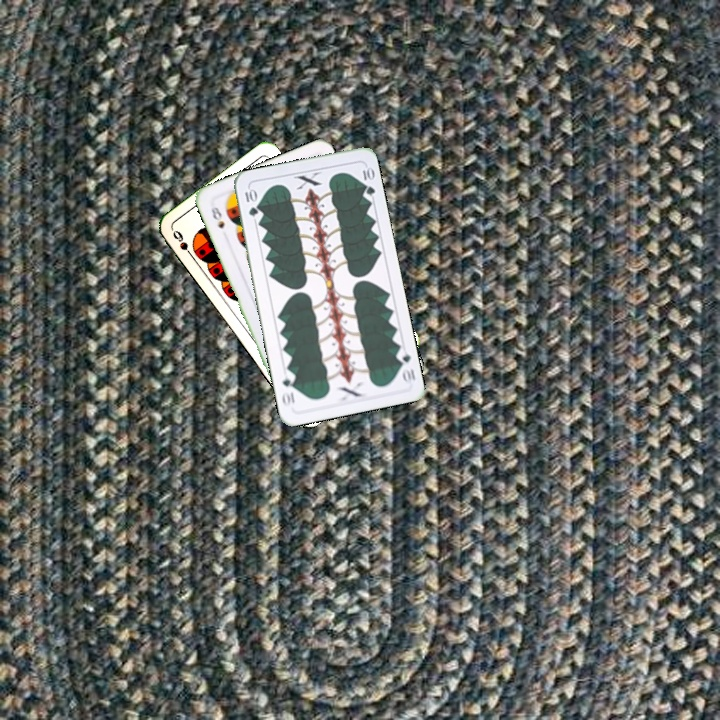G10: (393, 345, 418, 386), (241, 185, 260, 219)
S8: (206, 199, 227, 231)
S9: (169, 226, 197, 262)
